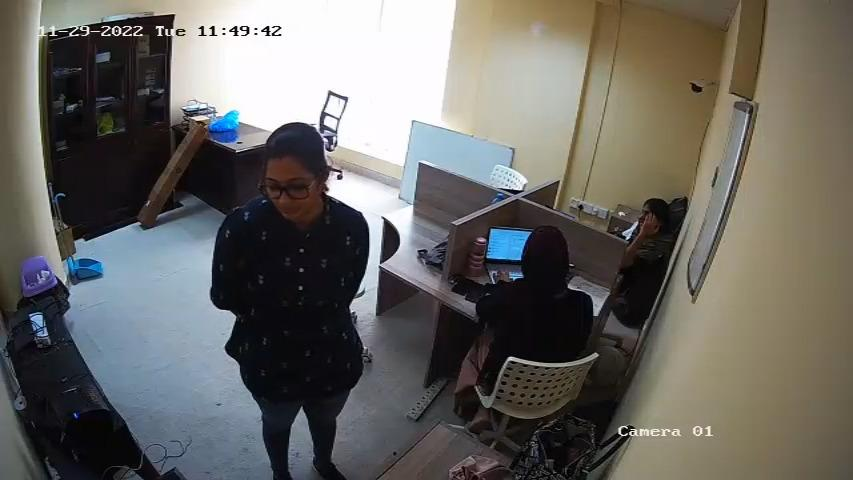no_apron: (237, 212, 361, 414)
